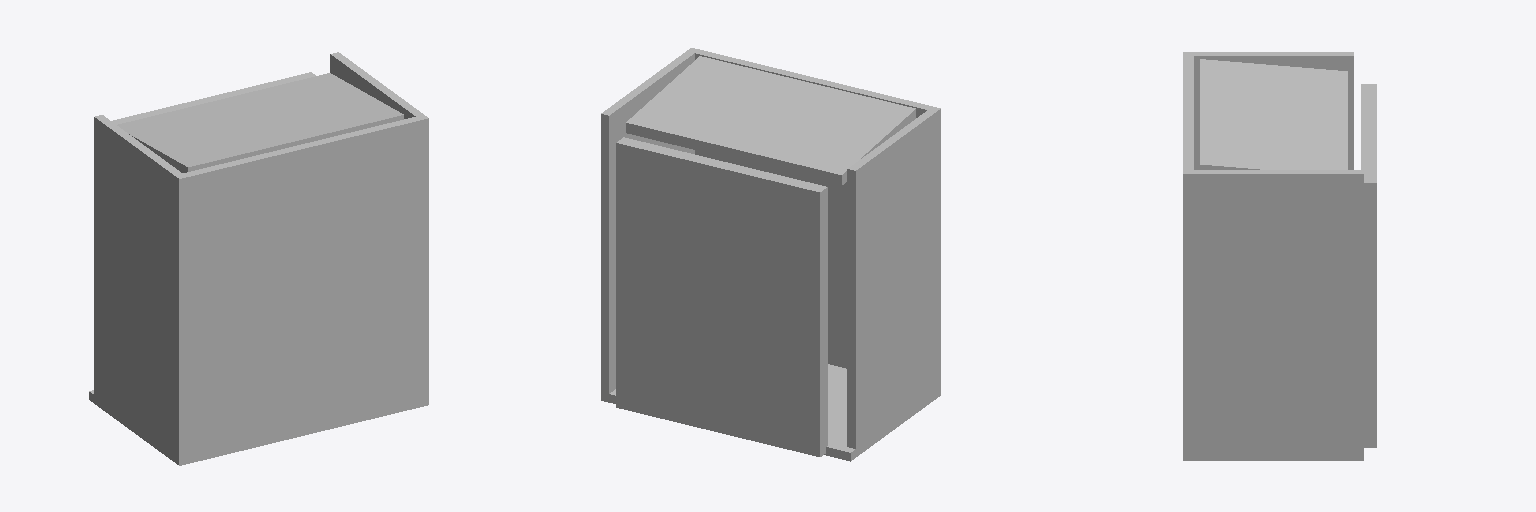
File: elevatorbox_anddoor.obj
3 views of the same model, side by side, from view 1: azimuth 30°, elevation 25°; view 2: azimuth 150°, elevation 25°; view 3: azimuth 270°, elevation 25° (orthographic).
Visible parts, largest first — view 1: elevatorcube_elevatorcube, elevator_door_elevator_door; view 2: elevatorcube_elevatorcube, elevator_door_elevator_door; view 3: elevatorcube_elevatorcube, elevator_door_elevator_door.
Boxes of the visible parts, <box> form: elevatorcube_elevatorcube: <box>89,52,428,465</box>; elevator_door_elevator_door: <box>112,72,315,124</box>; elevatorcube_elevatorcube: <box>601,48,940,461</box>; elevator_door_elevator_door: <box>616,137,827,456</box>; elevatorcube_elevatorcube: <box>1183,52,1363,460</box>; elevator_door_elevator_door: <box>1361,84,1376,447</box>.
Size of the model in its own units: 46.56 by 51.41 by 31.21.